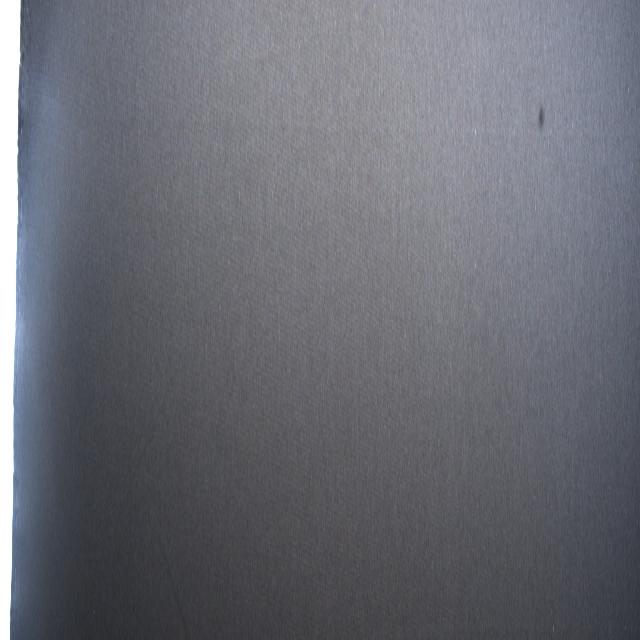crease: (159, 534, 193, 640)
